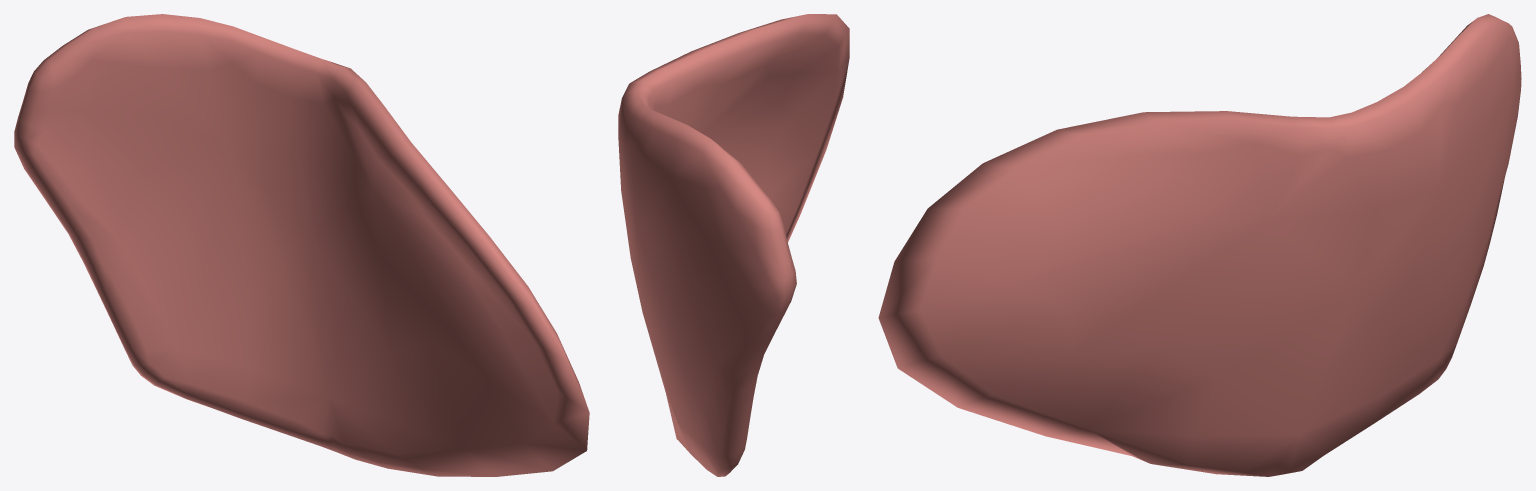
3 renders of one model, left to right at view 1: azimuth 30°, elevation 25°; view 2: azimuth 150°, elevation 25°; view 3: azimuth 270°, elevation 25°, orthographic.
Visible parts, largest first — view 1: ZA_d61d541951524579; view 2: ZA_d61d541951524579; view 3: ZA_d61d541951524579.
Part boxes in pixels (x1,y1,x2,y2): ZA_d61d541951524579: (14, 14, 589, 476); ZA_d61d541951524579: (618, 14, 849, 476); ZA_d61d541951524579: (878, 14, 1521, 476).
Size of the model in its own units: 0.00418 by 0.00573 by 0.00838.
